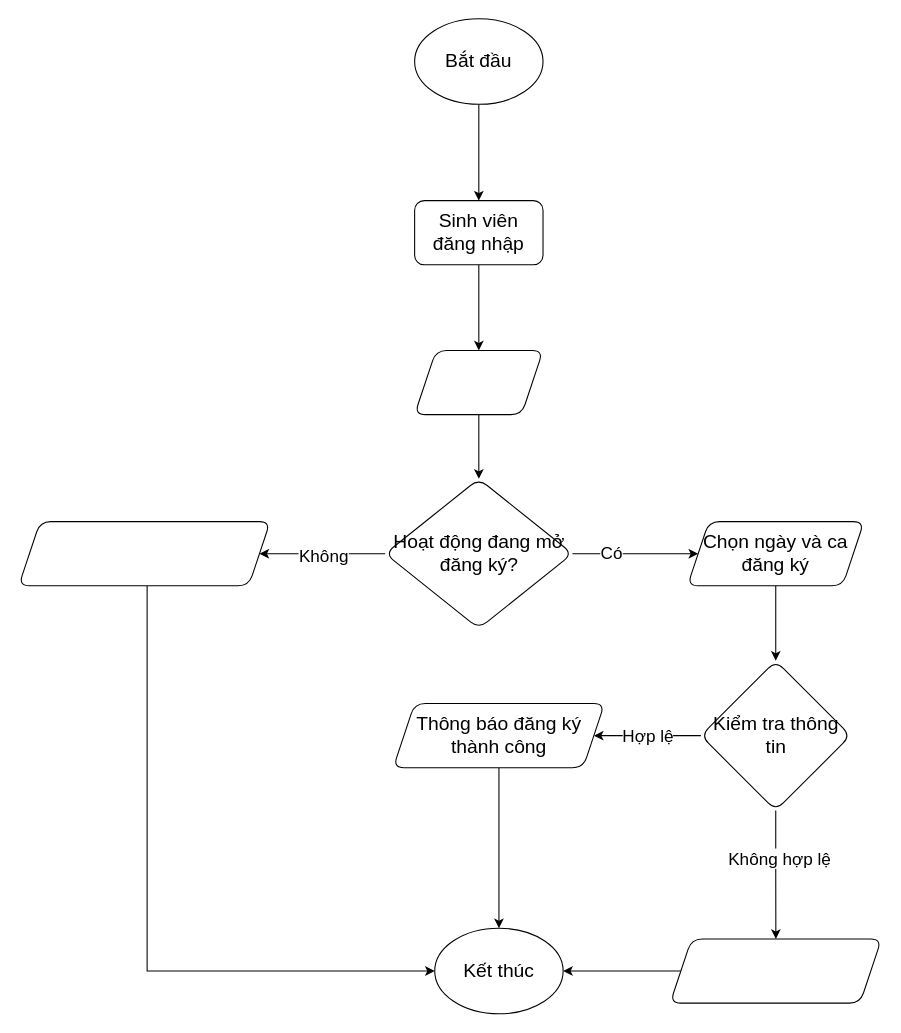
This 901x1033 diagram has some shape labels left out. Here are the shapes that lost their labels. From the top down, the centre of each, then its label:
[478,382]: Chọn hoạt động
[144,553]: Thông báo không thể đăng ký
[775,970]: Thông báo đăng ký không thành công
